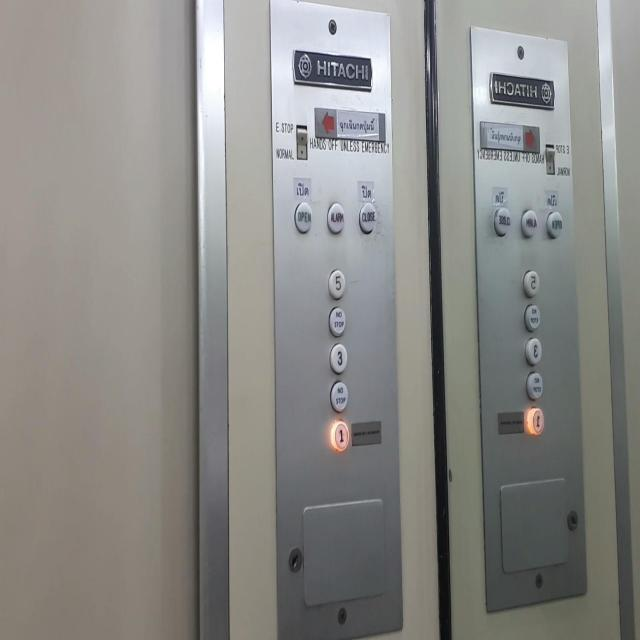1: (330, 418, 349, 450)
3: (329, 342, 347, 375)
5: (328, 268, 345, 300)
switch: (544, 140, 557, 178), (296, 123, 308, 161)
text_alarm bell: (294, 200, 312, 235)
text_close door: (358, 200, 377, 234)
text_nostop: (329, 379, 349, 414), (328, 306, 347, 336)
text_open door: (326, 200, 345, 236)
unknown: (527, 402, 546, 437), (493, 204, 512, 238), (520, 206, 539, 240), (523, 299, 542, 333), (524, 334, 543, 368), (546, 208, 564, 242), (522, 266, 540, 300), (526, 368, 544, 402)
